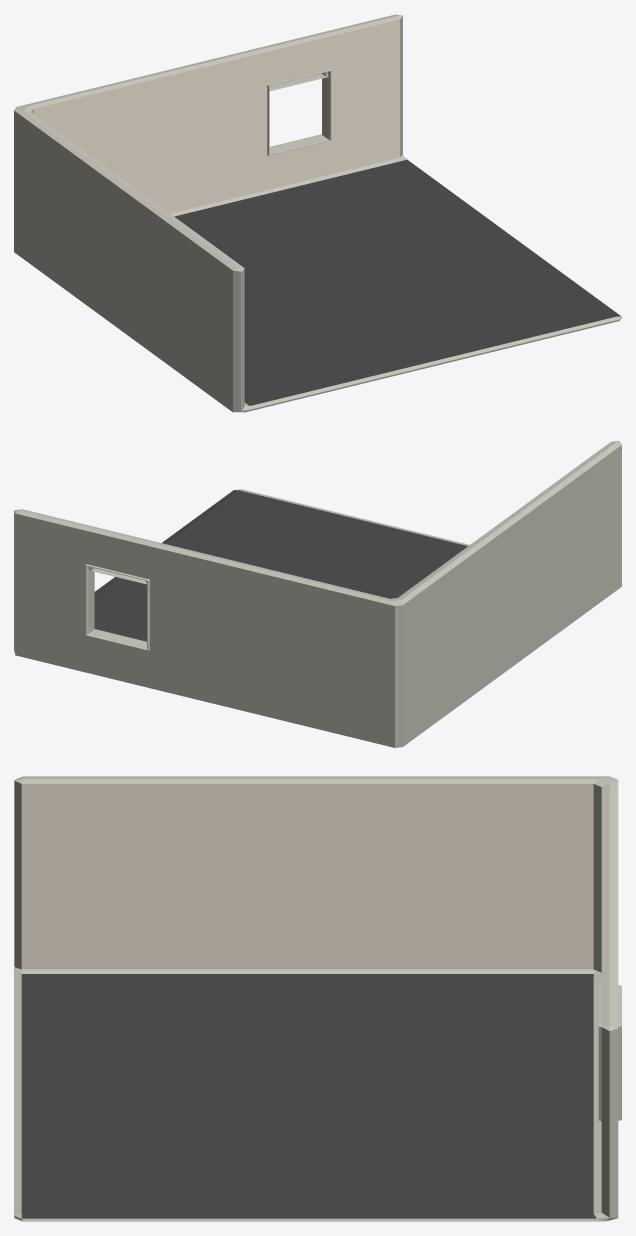
The model's file is living_room_big.gltf.
The picture shows the model from 3 angles, top to bottom: view 1: azimuth 30°, elevation 25°; view 2: azimuth 150°, elevation 25°; view 3: azimuth 270°, elevation 25°; orthographic projection. The views are drawn at different scales.
Visible parts, largest first — view 1: living room; view 2: living room; view 3: living room.
Part boxes in pixels (x1,y1,x2,y2): living room: (14,14,621,412); living room: (14,441,621,747); living room: (14,776,621,1221).
Size of the model in its own units: 42.09 by 14.85 by 42.45.
